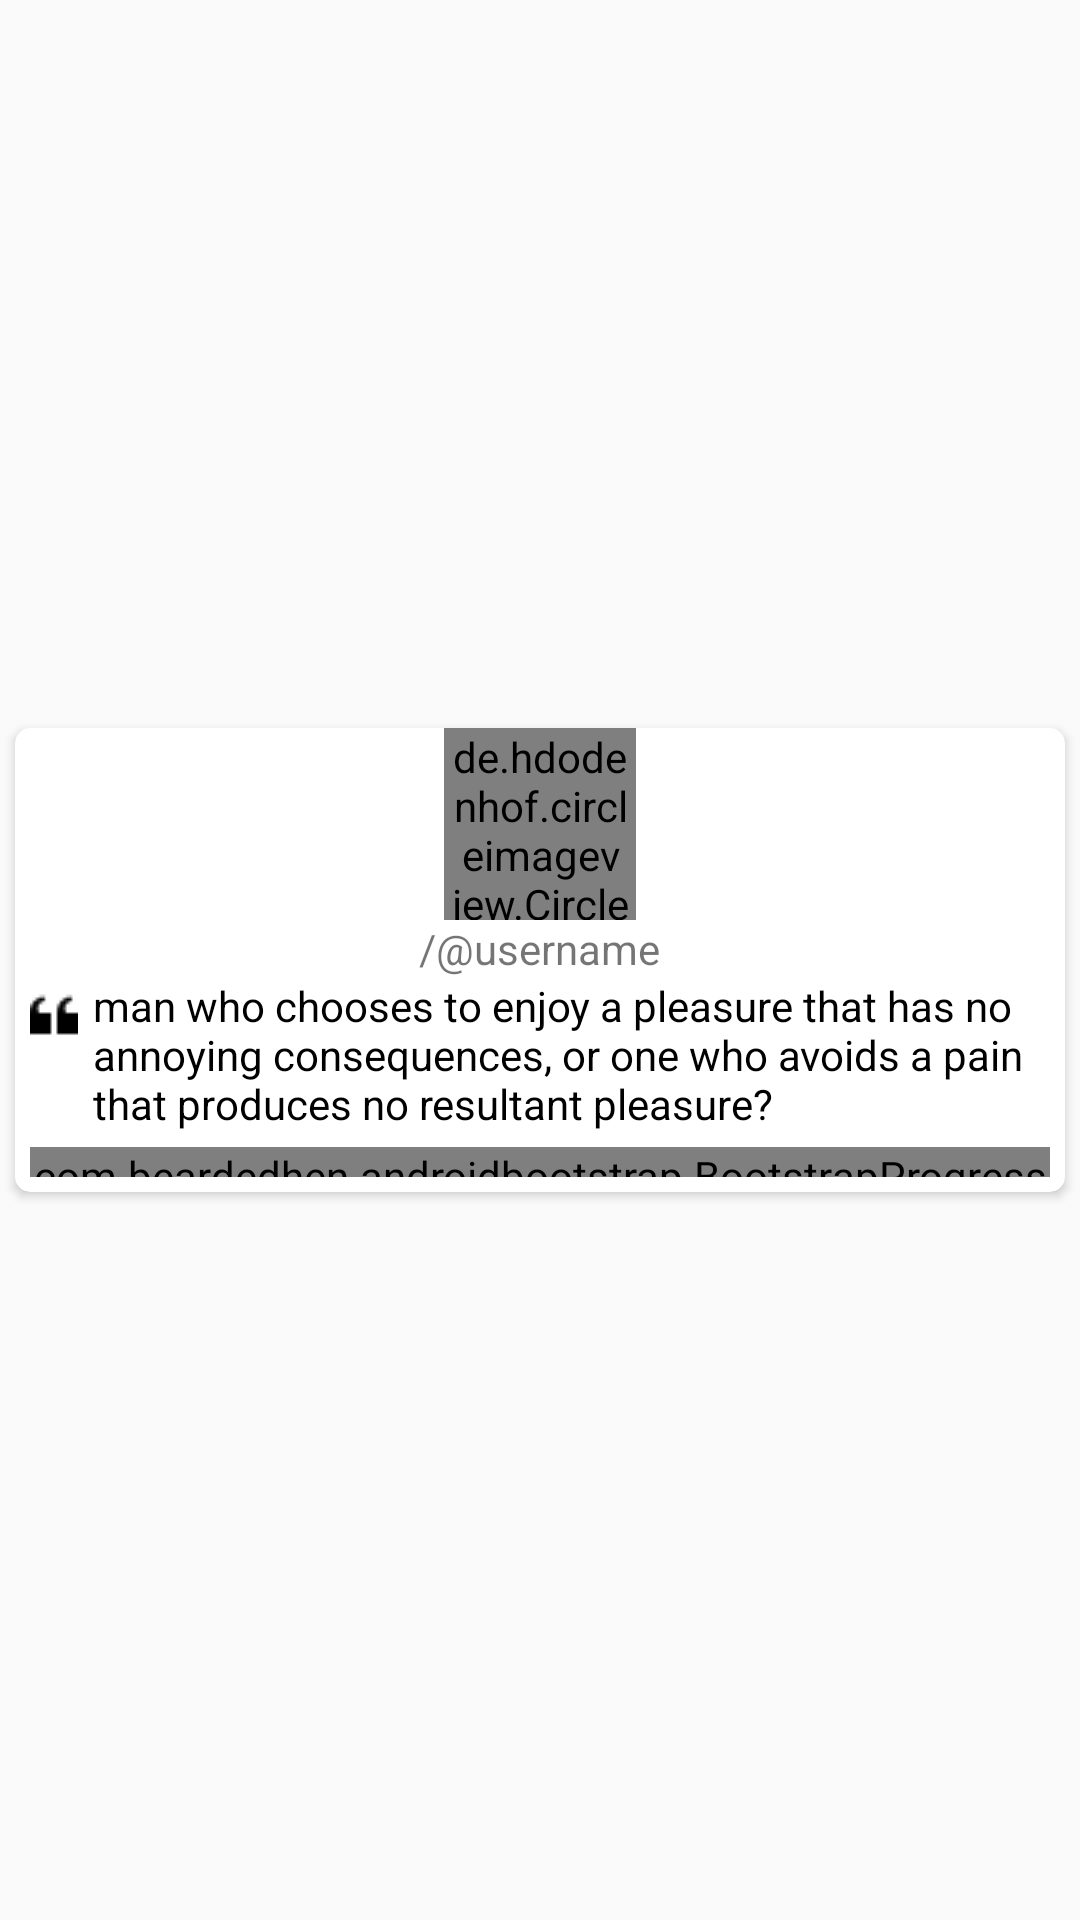

Named icons in this screenshot (1080 × 1920) and their bounding boxes, (x1, y1, x2, y2):
left quote: (30, 995, 78, 1035)
